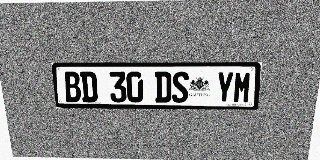0: (126, 72, 143, 103)
3: (109, 72, 127, 102)
B: (63, 72, 82, 102)
D: (80, 72, 98, 102), (155, 72, 171, 103)
M: (233, 72, 252, 103)
S: (172, 72, 189, 103)
Y: (215, 72, 234, 103)
